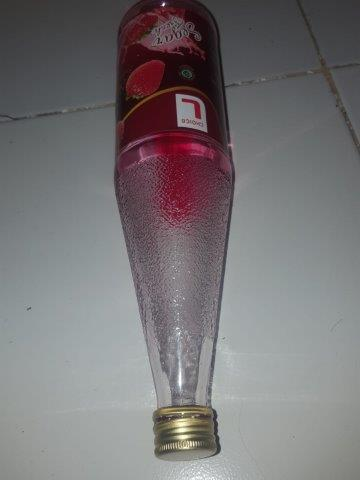botolkaca: (113, 1, 236, 461)
